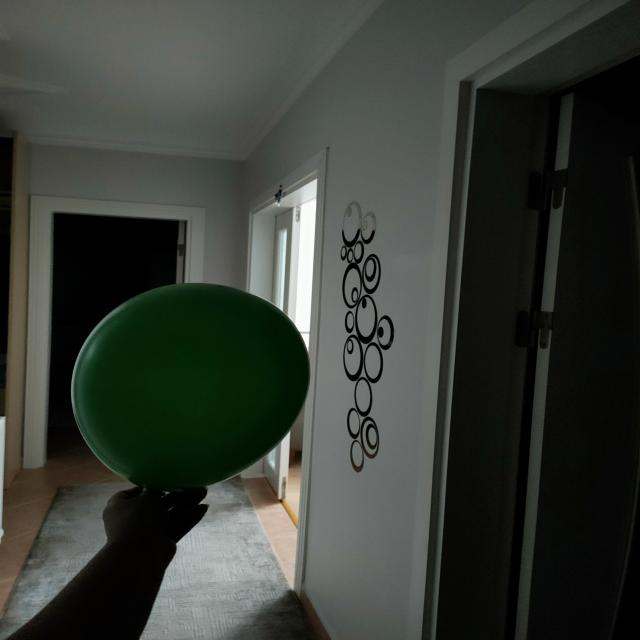green: (74, 285, 312, 488)
